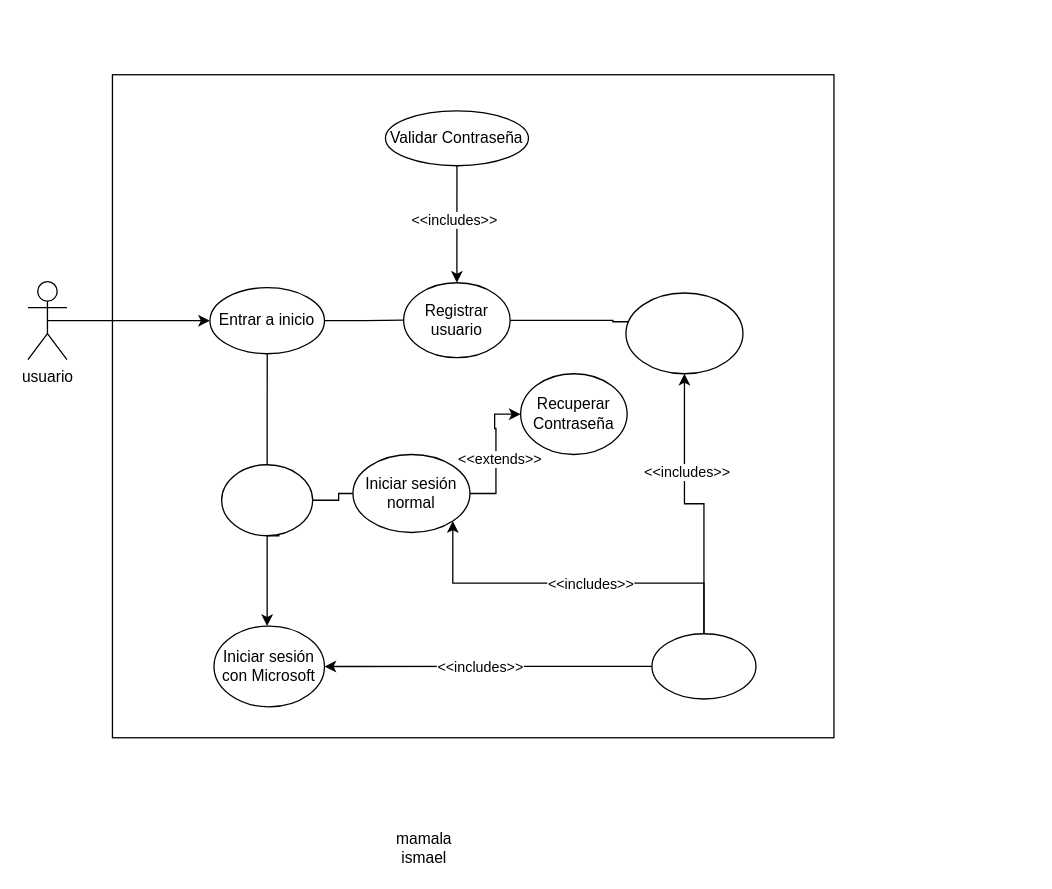
The diagram is 1052 pixels wide and 889 high, and some of its shapes have lost their labels. The centre of each missing label's shape, as x and y in pixels:
"Crear Token" goes at (x=703, y=665).
"Iniciar sesión" goes at (x=266, y=499).
"Verificar correo" goes at (x=684, y=333).
